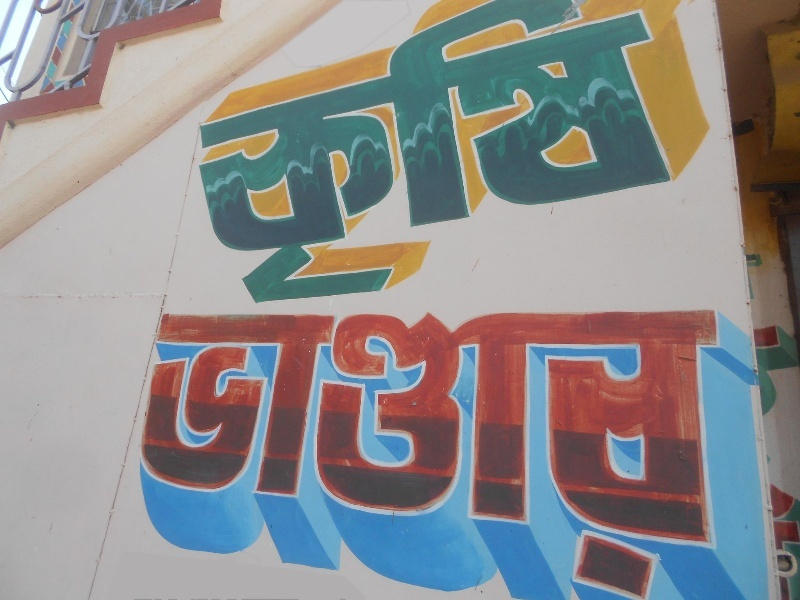text: (209, 2, 224, 306), (225, 2, 240, 306), (241, 2, 256, 306), (257, 2, 272, 306), (273, 2, 288, 306), (289, 2, 304, 306), (305, 2, 320, 306), (321, 2, 336, 306), (337, 2, 352, 306), (353, 2, 368, 306), (369, 2, 384, 306), (385, 2, 400, 306), (401, 2, 416, 306), (417, 2, 432, 306), (433, 2, 448, 306), (449, 2, 464, 306), (465, 2, 480, 306), (481, 2, 496, 306), (497, 2, 512, 306), (513, 2, 528, 306), (529, 2, 544, 306), (545, 2, 560, 306), (561, 2, 576, 306), (577, 2, 592, 306), (593, 2, 608, 306), (609, 2, 624, 306), (625, 2, 640, 306), (641, 2, 656, 306), (657, 2, 672, 306), (673, 2, 688, 306), (689, 2, 704, 306), (145, 306, 160, 600), (161, 306, 176, 600), (177, 306, 192, 600), (193, 306, 208, 600), (209, 306, 224, 600), (225, 306, 240, 600), (241, 306, 256, 600), (257, 306, 272, 600), (273, 306, 288, 600), (289, 306, 304, 600), (305, 306, 320, 600), (321, 306, 336, 600), (337, 306, 352, 600), (353, 306, 368, 600), (369, 306, 384, 600), (385, 306, 400, 600), (401, 306, 416, 600), (417, 306, 432, 600), (433, 306, 448, 600), (449, 306, 464, 600), (465, 306, 480, 600), (481, 306, 496, 600), (497, 306, 512, 600), (513, 306, 528, 600), (529, 306, 544, 600), (545, 306, 560, 600), (561, 306, 576, 600), (577, 306, 592, 600), (593, 306, 608, 600), (609, 306, 624, 600), (625, 306, 640, 600), (641, 306, 656, 600), (657, 306, 672, 600), (673, 306, 688, 600), (689, 306, 704, 600), (705, 306, 720, 600), (769, 317, 784, 599), (785, 317, 800, 599), (755, 317, 768, 599), (197, 2, 208, 306), (705, 2, 712, 306), (721, 306, 727, 600), (141, 306, 144, 600)
